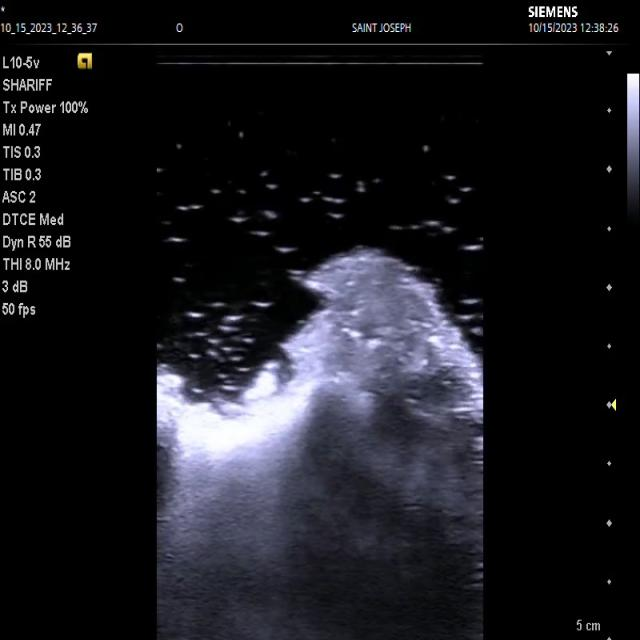tissue: (156, 250, 482, 640)
